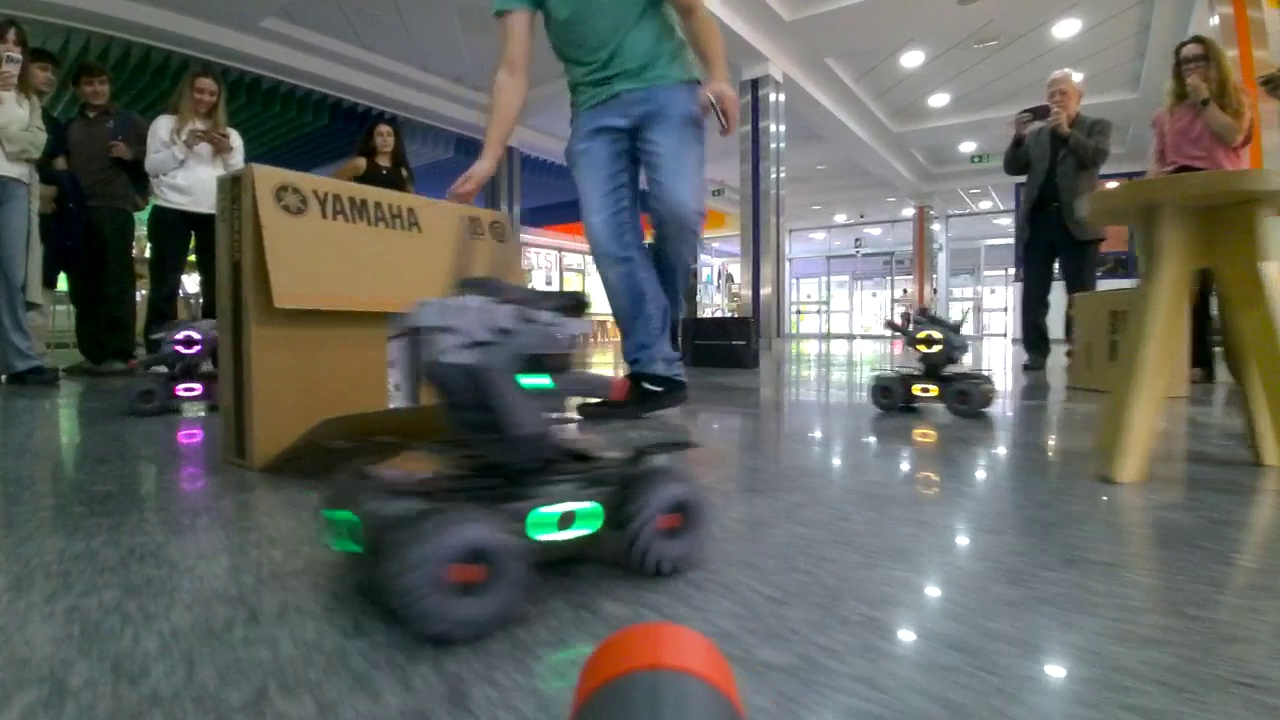robot: (318, 294, 707, 644), (869, 314, 996, 420)
